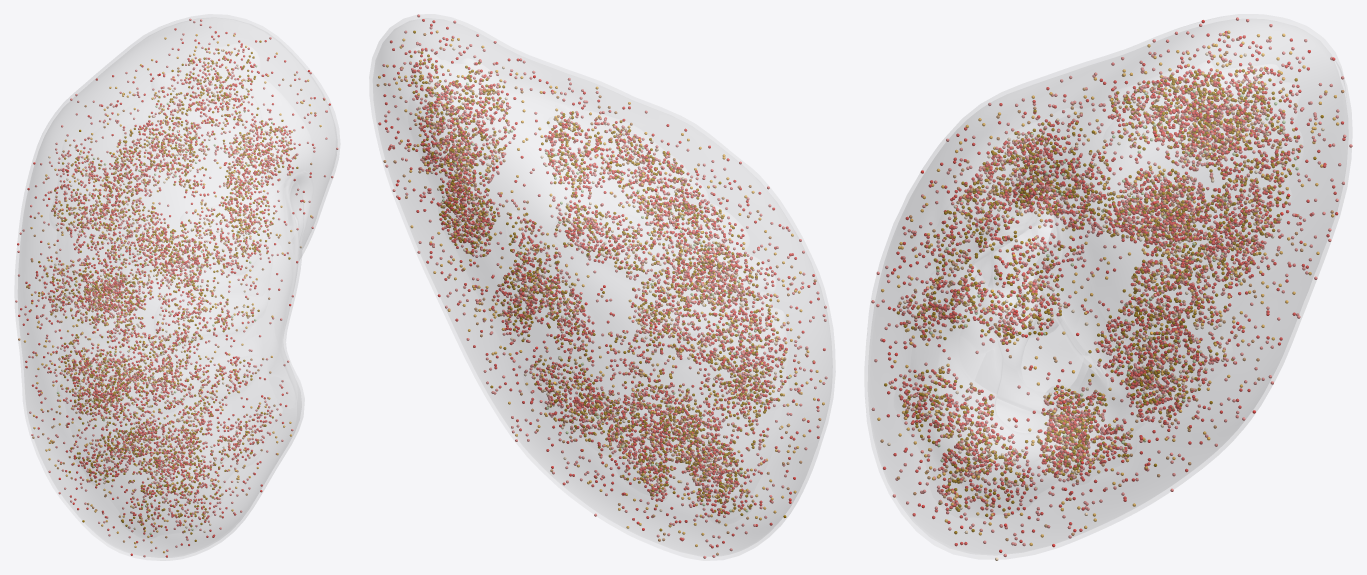
Rendered from 3d-vh-f-kidney-r-UBERON_0004539-all-as-pan-human-azimuth-sphere-hra-pop.glb.
3 views of the same model, side by side, from view 1: azimuth 30°, elevation 25°; view 2: azimuth 150°, elevation 25°; view 3: azimuth 270°, elevation 25° (orthographic). The views are drawn at different scales.
Visible parts, largest first — view 1: VH_F_kidney_capsule_R, VH_F_outer_cortex_of_kidney_R, VH_F_hilum_of_kidney_R; view 2: VH_F_kidney_capsule_R, VH_F_outer_cortex_of_kidney_R; view 3: VH_F_kidney_capsule_R, VH_F_outer_cortex_of_kidney_R, VH_F_hilum_of_kidney_R, VH_F_renal_column_R, VH_F_renal_pyramid_R_h.
Boxes of the visible parts, x1,y1,x2,y2 form: VH_F_kidney_capsule_R: (15,14,339,560); VH_F_outer_cortex_of_kidney_R: (18,18,335,556); VH_F_hilum_of_kidney_R: (282,171,313,399); VH_F_kidney_capsule_R: (369,14,835,560); VH_F_outer_cortex_of_kidney_R: (374,19,830,555); VH_F_kidney_capsule_R: (865,14,1351,558); VH_F_outer_cortex_of_kidney_R: (870,19,1347,553); VH_F_hilum_of_kidney_R: (937,176,1098,467); VH_F_renal_column_R: (970,204,1087,410); VH_F_renal_pyramid_R_h: (974,247,1056,338).
Bounding box in the file's own units: 0.0734 × 0.0979 × 0.0695.
